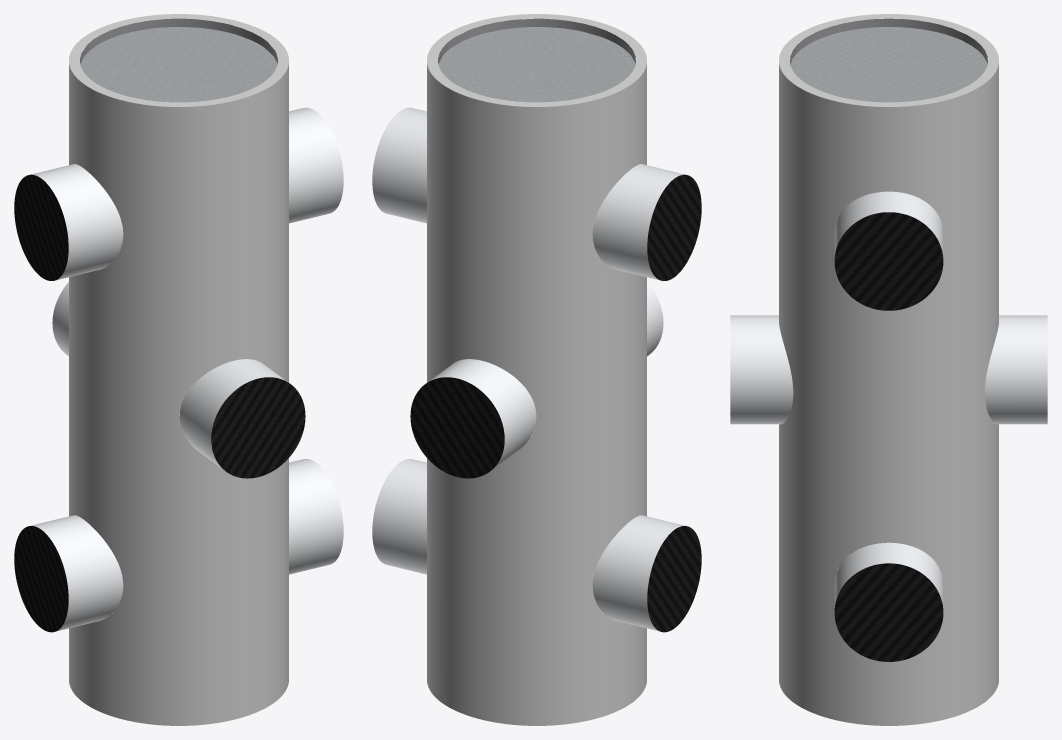
File: utility.glb
The picture shows the model from 3 angles, left to right: view 1: azimuth 30°, elevation 25°; view 2: azimuth 150°, elevation 25°; view 3: azimuth 270°, elevation 25°; orthographic projection.
Size of the model in its own units: 0.0554 by 0.1191 by 0.0554.
5 materials, 2 textured.
